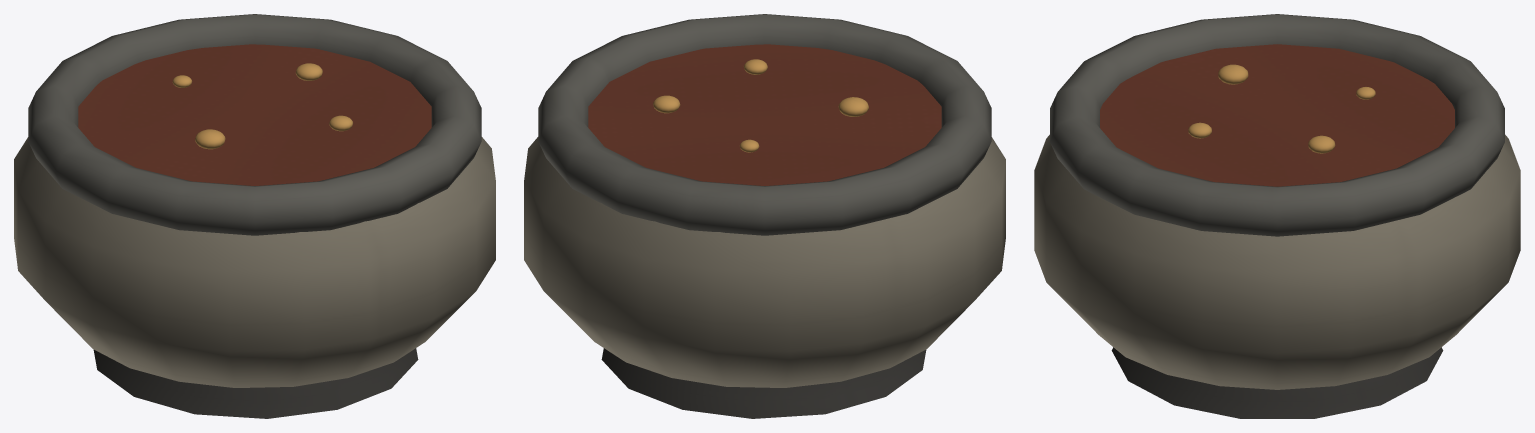
File: sk-household-bowl-stew.glb
3 views of the same model, side by side, from view 1: azimuth 30°, elevation 25°; view 2: azimuth 150°, elevation 25°; view 3: azimuth 270°, elevation 25° (orthographic).
Visible parts, largest first — view 1: bowl-stew-vessel, bowl-stew-rim, bowl-stew-surface, bowl-stew-foot, household:bowl_stew-static-food; view 2: bowl-stew-vessel, bowl-stew-rim, bowl-stew-surface, bowl-stew-foot, household:bowl_stew-static-food; view 3: bowl-stew-vessel, bowl-stew-rim, bowl-stew-surface, bowl-stew-foot, household:bowl_stew-static-food.
Boxes of the visible parts, x1=… form: bowl-stew-vessel: x1=14, y1=137, x2=495, y2=387; bowl-stew-rim: x1=28, y1=14, x2=481, y2=235; bowl-stew-surface: x1=78, y1=44, x2=431, y2=185; bowl-stew-foot: x1=93, y1=348, x2=418, y2=418; household:bowl_stew-static-food: x1=172, y1=63, x2=352, y2=149; bowl-stew-vessel: x1=524, y1=137, x2=1005, y2=387; bowl-stew-rim: x1=538, y1=14, x2=991, y2=235; bowl-stew-surface: x1=588, y1=44, x2=941, y2=185; bowl-stew-foot: x1=601, y1=348, x2=926, y2=418; household:bowl_stew-static-food: x1=653, y1=59, x2=868, y2=152; bowl-stew-vessel: x1=1034, y1=134, x2=1520, y2=389; bowl-stew-rim: x1=1050, y1=14, x2=1504, y2=236; bowl-stew-surface: x1=1100, y1=44, x2=1454, y2=186; bowl-stew-foot: x1=1111, y1=347, x2=1443, y2=418; household:bowl_stew-static-food: x1=1188, y1=64, x2=1375, y2=153.
Bounding box in the file's own units: 0.44 × 0.2507 × 0.44.
5 materials, 5 textured.
